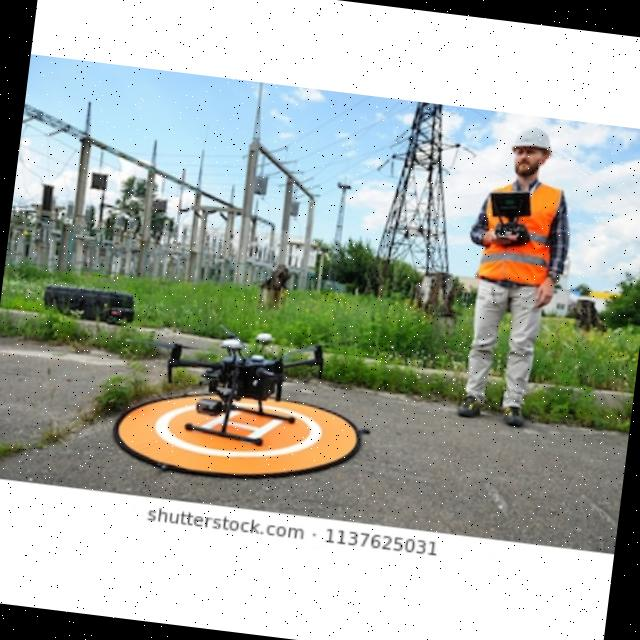Drones: (154, 318, 333, 457)
